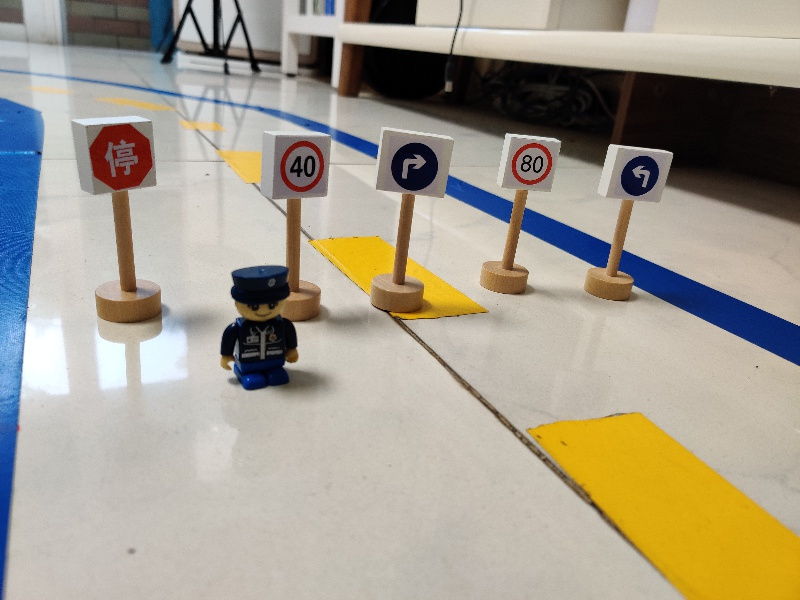limit_40: (258, 128, 332, 201)
limit_80: (497, 130, 563, 195)
person: (218, 265, 302, 391)
stop: (68, 118, 160, 195)
turn_left: (595, 141, 672, 204)
turn_right: (375, 124, 455, 200)
